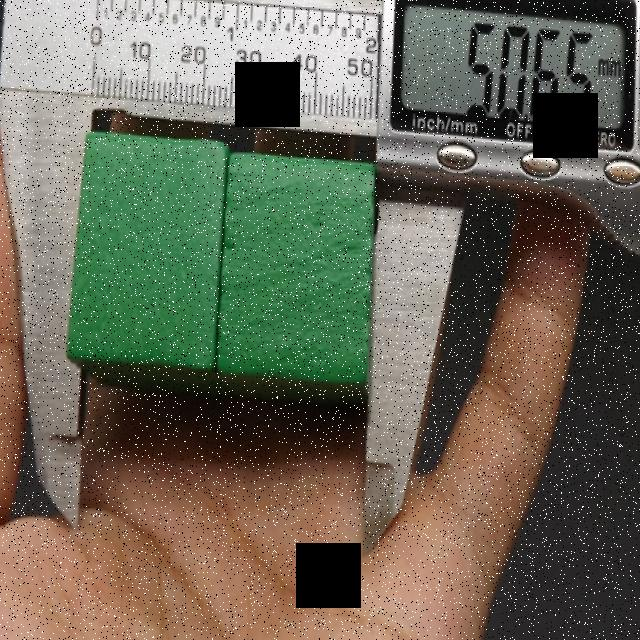green cube: (65, 130, 233, 398), (215, 151, 376, 412)
